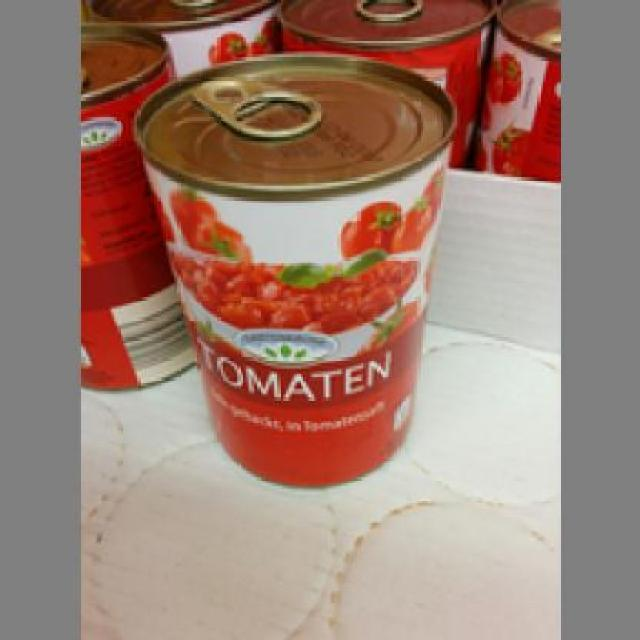Tomato Sauce: (126, 51, 454, 488)
